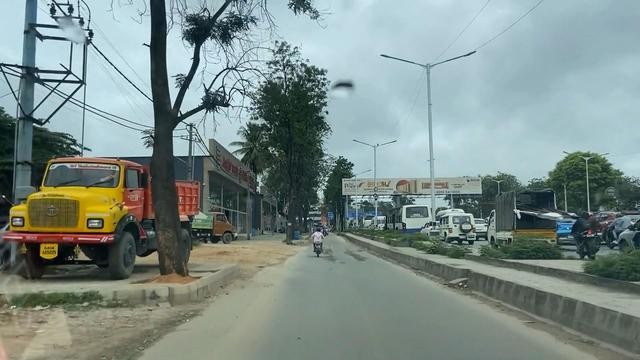HMV: (13, 154, 128, 275)
